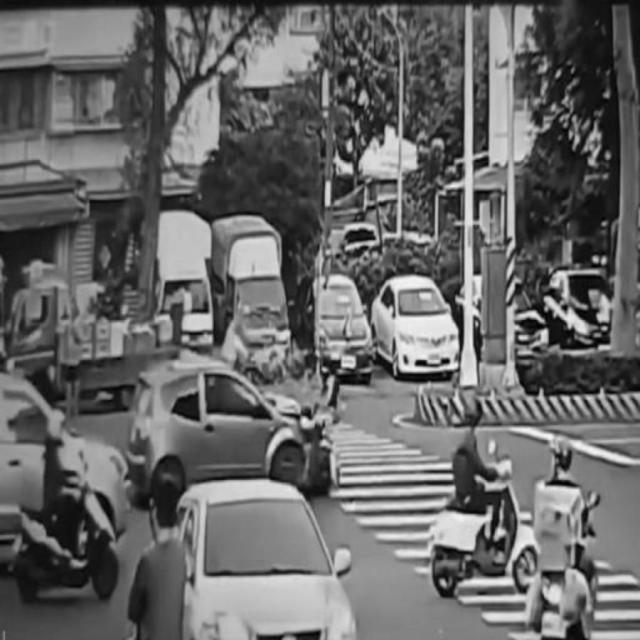person: (131, 481, 191, 639)
vehicle: (181, 470, 367, 640), (121, 368, 349, 481), (429, 408, 537, 593), (22, 398, 120, 598), (523, 434, 611, 638), (202, 217, 300, 361), (297, 273, 375, 371), (379, 278, 461, 371), (551, 272, 618, 345)
